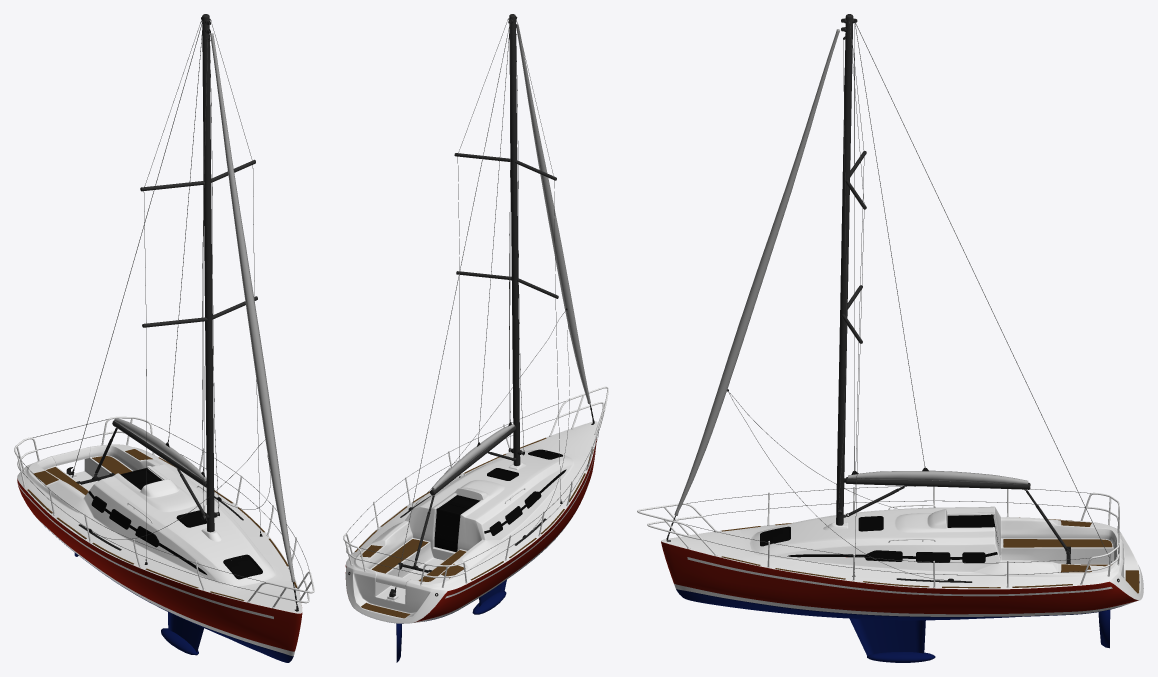
3 renders of one model, left to right at view 1: azimuth 30°, elevation 25°; view 2: azimuth 150°, elevation 25°; view 3: azimuth 270°, elevation 25°, orthographic. The views are drawn at different scales.
Parts seen in each view (by area): view 1: deck, hull, mast, sails, rigging, railing, keel, ports, cockpit, ffames, waterline, hull_molding (+2 smaller); view 2: deck, mast, rigging, sails, hull, cockpit, railing, ports, door, keel, ffames, deck_molding (+1 smaller); view 3: deck, hull, mast, sails, rigging, keel, railing, waterline, cockpit, ports, hull_molding, ffames.
Boxes of the visible parts, x1=… form: deck: x1=17, y1=444, x2=302, y2=613; hull: x1=17, y1=478, x2=302, y2=651; mast: x1=94, y1=14, x2=257, y2=532; sails: x1=114, y1=33, x2=295, y2=582; rigging: x1=18, y1=19, x2=309, y2=590; railing: x1=14, y1=416, x2=314, y2=608; keel: x1=44, y1=526, x2=293, y2=662; ports: x1=93, y1=470, x2=260, y2=576; cockpit: x1=33, y1=449, x2=152, y2=495; ffames: x1=91, y1=496, x2=262, y2=579; waterline: x1=36, y1=517, x2=294, y2=656; hull_molding: x1=17, y1=481, x2=273, y2=618; deck: x1=345, y1=421, x2=597, y2=623; mast: x1=413, y1=14, x2=558, y2=566; rigging: x1=346, y1=18, x2=604, y2=576; sails: x1=431, y1=23, x2=590, y2=490; hull: x1=345, y1=439, x2=596, y2=622; cockpit: x1=360, y1=539, x2=466, y2=618; railing: x1=343, y1=386, x2=608, y2=587; ports: x1=437, y1=450, x2=559, y2=538; door: x1=434, y1=495, x2=479, y2=551; keel: x1=396, y1=483, x2=584, y2=623; ffames: x1=487, y1=449, x2=562, y2=535; deck_molding: x1=355, y1=437, x2=593, y2=580; deck: x1=661, y1=506, x2=1143, y2=600; hull: x1=661, y1=541, x2=1138, y2=614; mast: x1=836, y1=14, x2=1070, y2=555; sails: x1=674, y1=29, x2=1028, y2=515; rigging: x1=686, y1=22, x2=1119, y2=580; keel: x1=676, y1=581, x2=1139, y2=662; railing: x1=637, y1=486, x2=1119, y2=587; waterline: x1=674, y1=557, x2=1135, y2=616; cockpit: x1=1003, y1=520, x2=1139, y2=593; ports: x1=762, y1=516, x2=991, y2=561; hull_molding: x1=687, y1=557, x2=1112, y2=596; ffames: x1=760, y1=516, x2=985, y2=562.
Size of the model in its own units: 341 by 1340 by 952.
